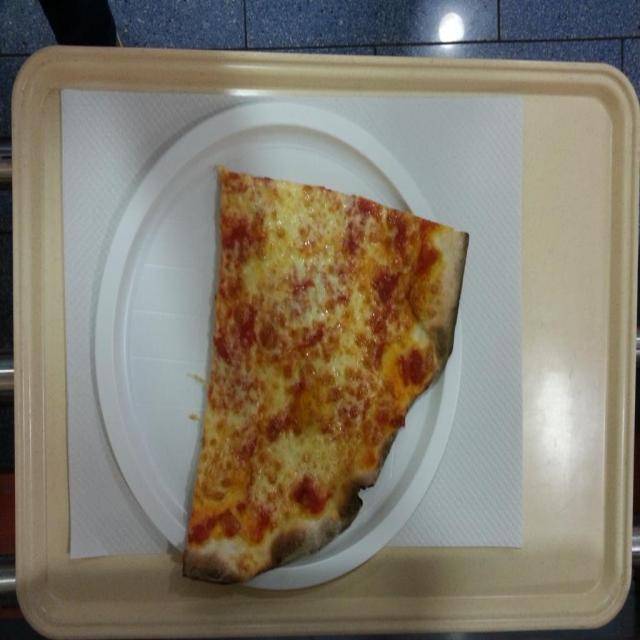plate: (92, 99, 470, 592)
